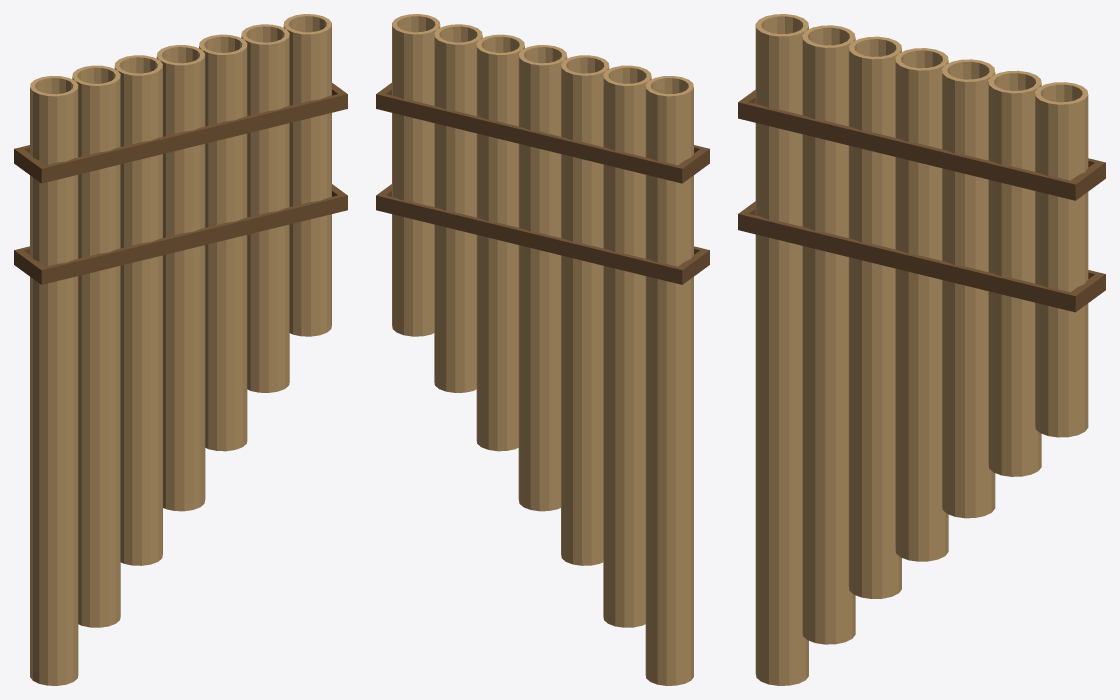
The picture shows the model from 3 angles, left to right: view 1: azimuth 30°, elevation 25°; view 2: azimuth 150°, elevation 25°; view 3: azimuth 330°, elevation 25°; orthographic projection. The views are drawn at different scales.
Parts seen in each view (by area): view 1: StoppedBambooPipe_01, StoppedBambooPipe_02, StoppedBambooPipe_03, StoppedBambooPipe_04, StoppedBambooPipe_05, StoppedBambooPipe_06, StoppedBambooPipe_07, UpperContinuousBindingBand, LowerContinuousBindingBand; view 2: StoppedBambooPipe_01, StoppedBambooPipe_02, StoppedBambooPipe_03, StoppedBambooPipe_04, StoppedBambooPipe_05, StoppedBambooPipe_06, StoppedBambooPipe_07, UpperContinuousBindingBand, LowerContinuousBindingBand; view 3: StoppedBambooPipe_01, StoppedBambooPipe_02, StoppedBambooPipe_03, StoppedBambooPipe_04, StoppedBambooPipe_05, StoppedBambooPipe_06, StoppedBambooPipe_07, UpperContinuousBindingBand, LowerContinuousBindingBand.
Part boxes in pixels (x1=…): StoppedBambooPipe_01: x1=30, y1=76, x2=78, y2=685; StoppedBambooPipe_02: x1=72, y1=65, x2=120, y2=627; StoppedBambooPipe_03: x1=114, y1=55, x2=162, y2=565; StoppedBambooPipe_04: x1=156, y1=45, x2=205, y2=511; StoppedBambooPipe_05: x1=199, y1=34, x2=247, y2=451; StoppedBambooPipe_06: x1=241, y1=24, x2=289, y2=392; StoppedBambooPipe_07: x1=283, y1=14, x2=331, y2=336; UpperContinuousBindingBand: x1=14, y1=83, x2=347, y2=183; LowerContinuousBindingBand: x1=14, y1=184, x2=347, y2=284; StoppedBambooPipe_01: x1=645, y1=76, x2=693, y2=685; StoppedBambooPipe_02: x1=603, y1=65, x2=651, y2=627; StoppedBambooPipe_03: x1=561, y1=55, x2=609, y2=565; StoppedBambooPipe_04: x1=518, y1=45, x2=567, y2=511; StoppedBambooPipe_05: x1=476, y1=34, x2=524, y2=451; StoppedBambooPipe_06: x1=434, y1=24, x2=482, y2=392; StoppedBambooPipe_07: x1=392, y1=14, x2=440, y2=336; UpperContinuousBindingBand: x1=376, y1=83, x2=709, y2=183; LowerContinuousBindingBand: x1=376, y1=184, x2=709, y2=284; StoppedBambooPipe_01: x1=755, y1=14, x2=808, y2=685; StoppedBambooPipe_02: x1=802, y1=25, x2=855, y2=644; StoppedBambooPipe_03: x1=848, y1=36, x2=901, y2=598; StoppedBambooPipe_04: x1=895, y1=48, x2=948, y2=561; StoppedBambooPipe_05: x1=942, y1=59, x2=995, y2=518; StoppedBambooPipe_06: x1=988, y1=70, x2=1041, y2=476; StoppedBambooPipe_07: x1=1035, y1=82, x2=1088, y2=437; UpperContinuousBindingBand: x1=738, y1=90, x2=1105, y2=200; LowerContinuousBindingBand: x1=738, y1=201, x2=1105, y2=312.
Bounding box in the file's own units: 0.174 × 0.32 × 0.027.
